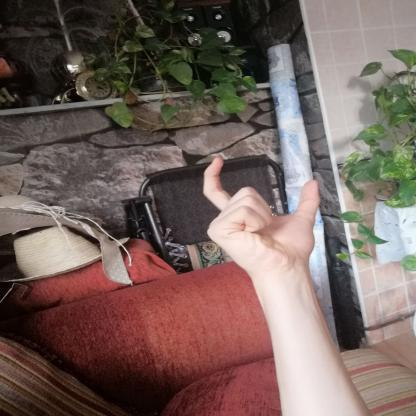NOON: (179, 147, 336, 288)
